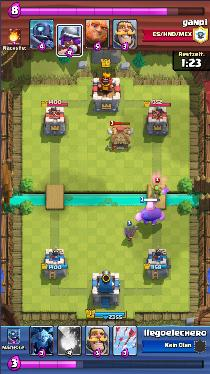ally_giant: (135, 203, 165, 225)
ally_musketeer: (124, 224, 137, 242)
enemy_goblin_hut: (106, 127, 134, 150)
enemy_spear_goblin: (149, 184, 164, 196)
